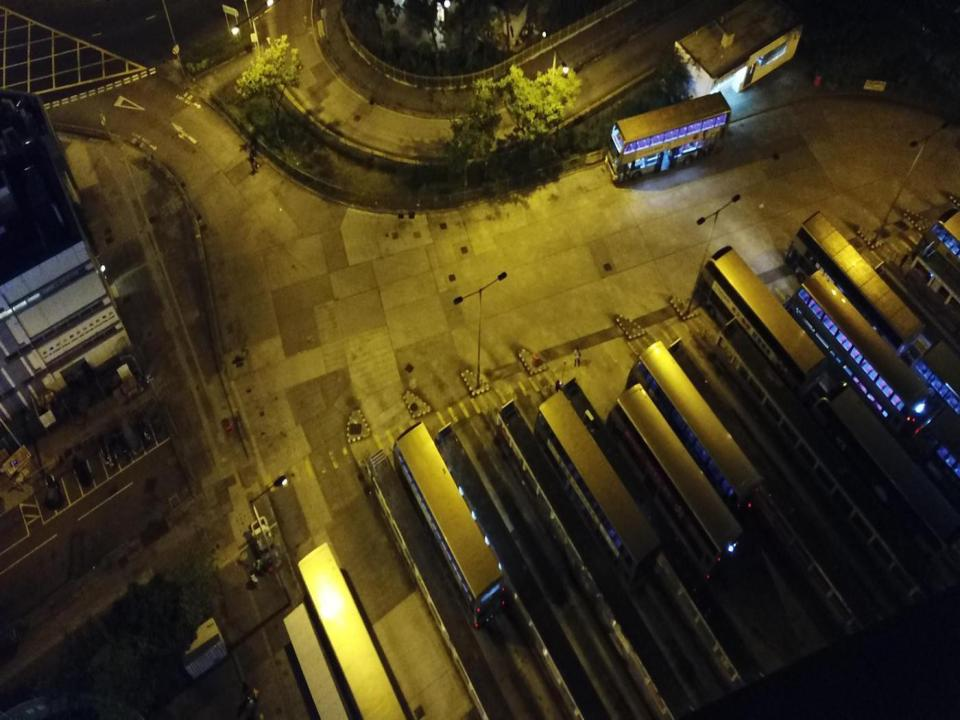bus: (810, 379, 960, 574), (607, 381, 743, 582), (624, 341, 761, 526), (534, 391, 660, 588), (789, 274, 931, 442), (392, 421, 505, 629), (693, 256, 825, 401), (606, 90, 732, 188), (811, 259, 922, 362)
